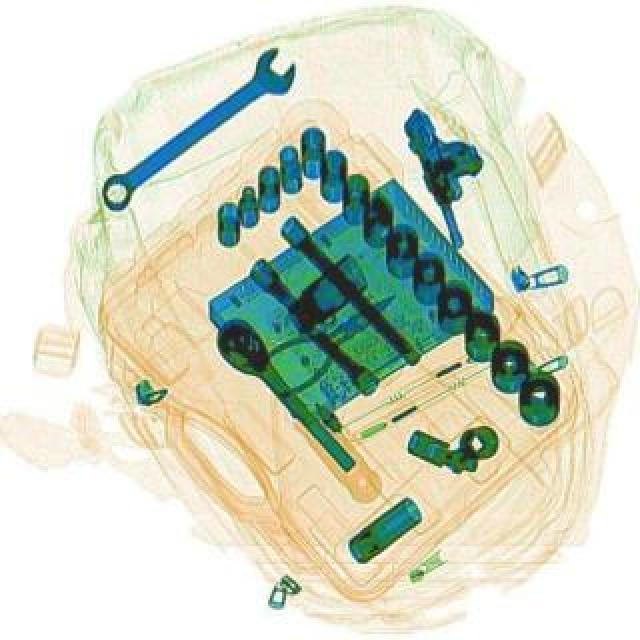gun: (394, 94, 510, 252)
scissors: (90, 40, 306, 220)
wrench: (252, 276, 412, 402)
